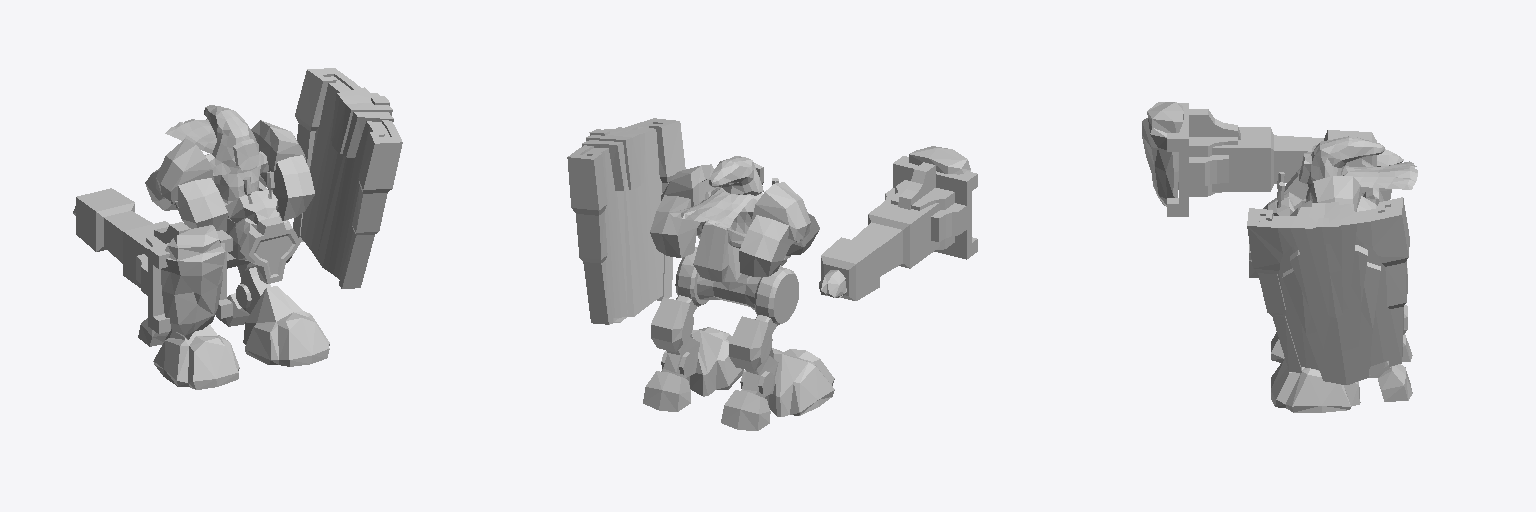
The model's file is order_minion_super.obj.
3 views of the same model, side by side, from view 1: azimuth 30°, elevation 25°; view 2: azimuth 150°, elevation 25°; view 3: azimuth 270°, elevation 25° (orthographic).
Parts seen in each view (by area): view 1: lolMesh_blue_minion_superminion; view 2: lolMesh_blue_minion_superminion; view 3: lolMesh_blue_minion_superminion.
Part boxes in pixels (x1,y1,x2,y2): lolMesh_blue_minion_superminion: (73, 68, 402, 389); lolMesh_blue_minion_superminion: (567, 118, 977, 430); lolMesh_blue_minion_superminion: (1142, 102, 1417, 412).
Bounding box in the file's own units: 2.1 × 1.56 × 1.63.